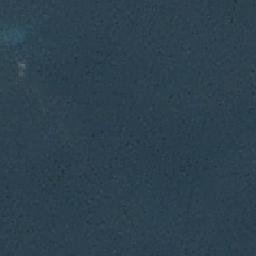debris: (16, 62, 25, 76)
